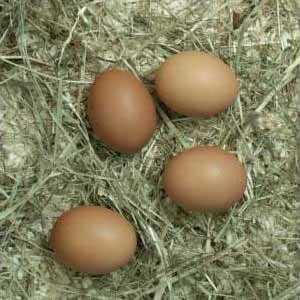egg: (88, 68, 159, 156), (52, 205, 137, 275), (163, 145, 249, 214), (155, 51, 239, 119)
